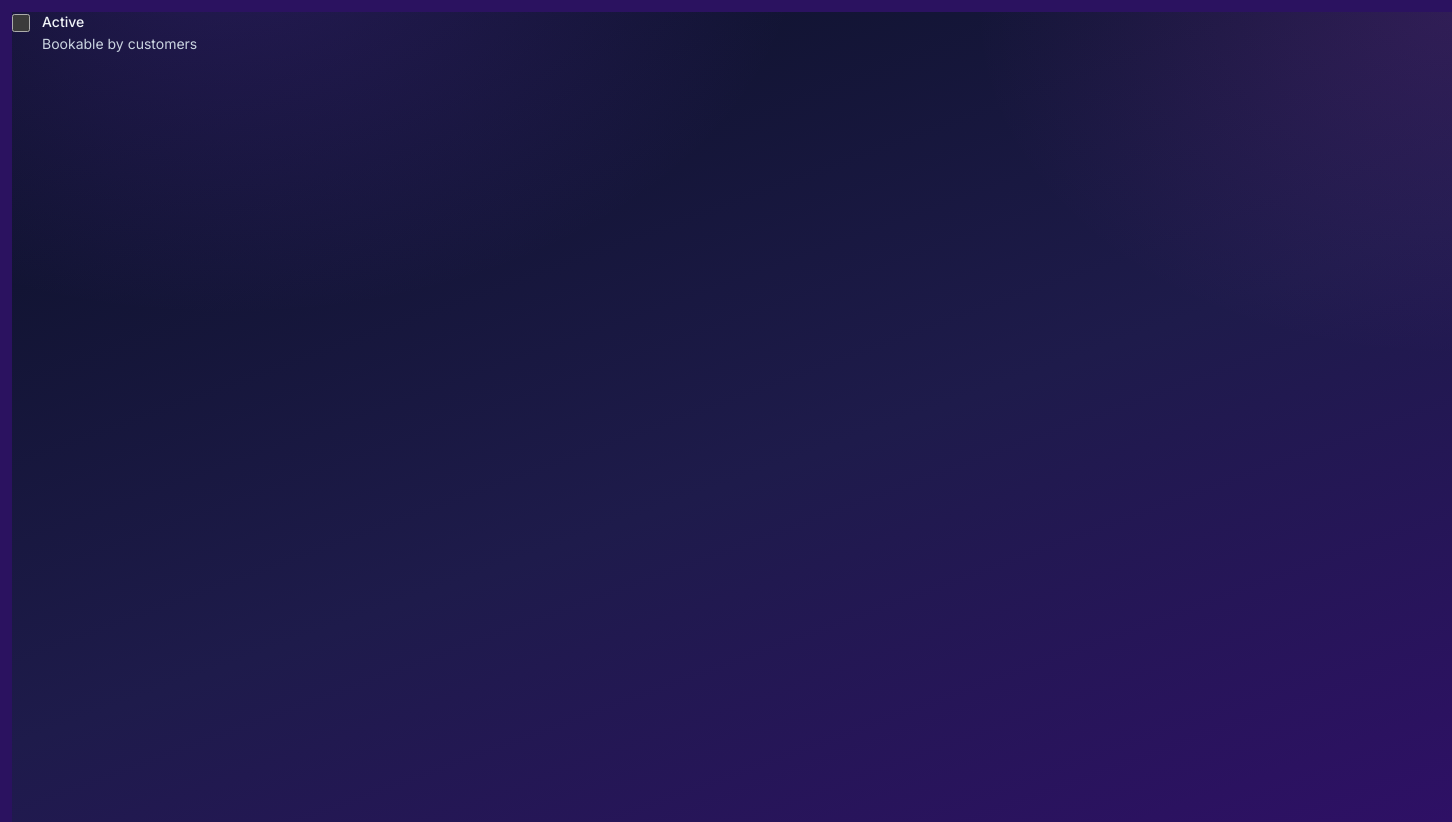
Test: Checkbox and ToggleChip › Checkbox is a native, labelled checkbox with a description
Click the text "Active" at {"x": 63, "y": 22}, box top-left (42, 13), bottom-right (84, 30)
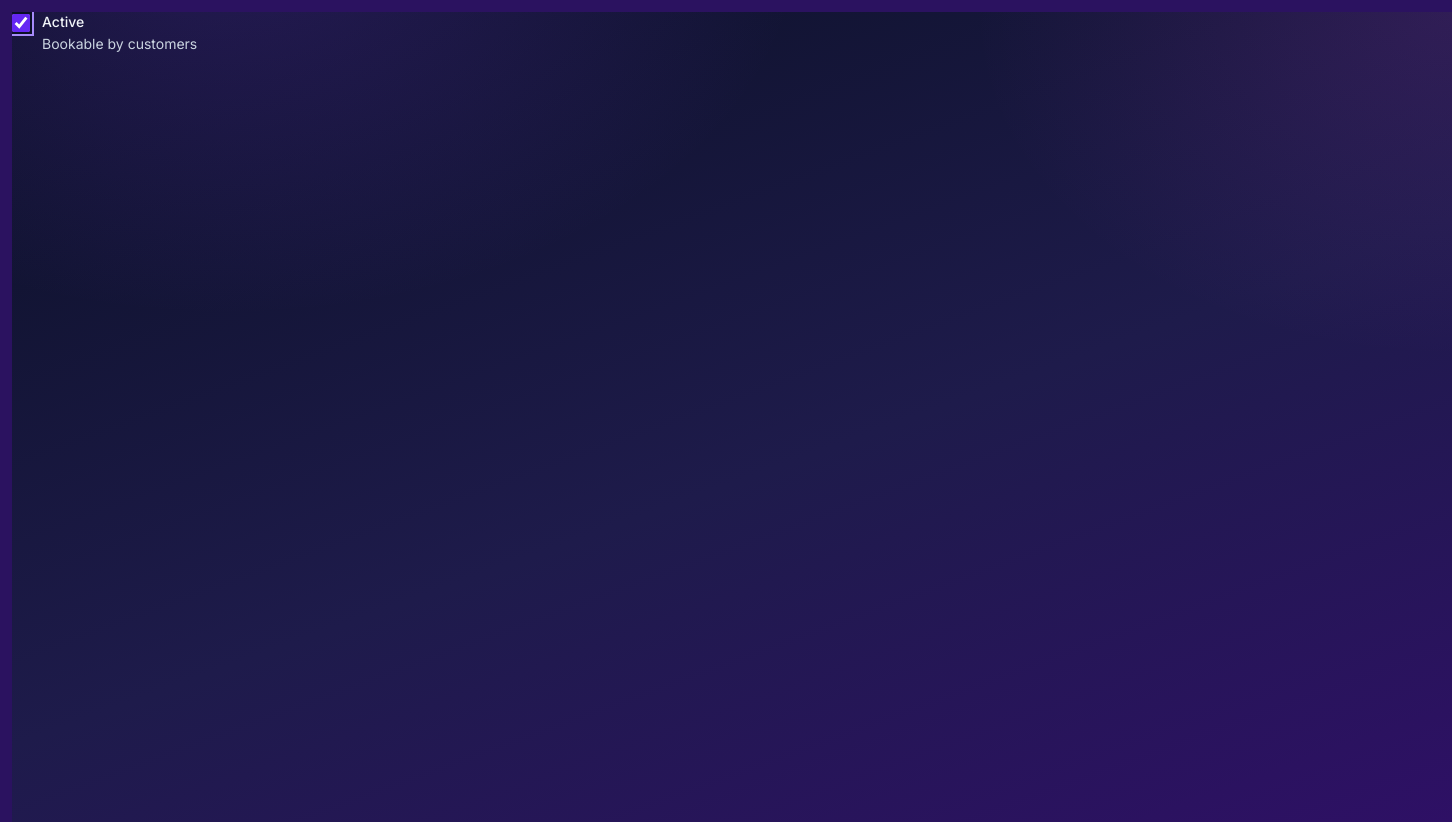
Check: the checkbox labelled "Active" is checked, box top-left (12, 14), bottom-right (30, 32)
